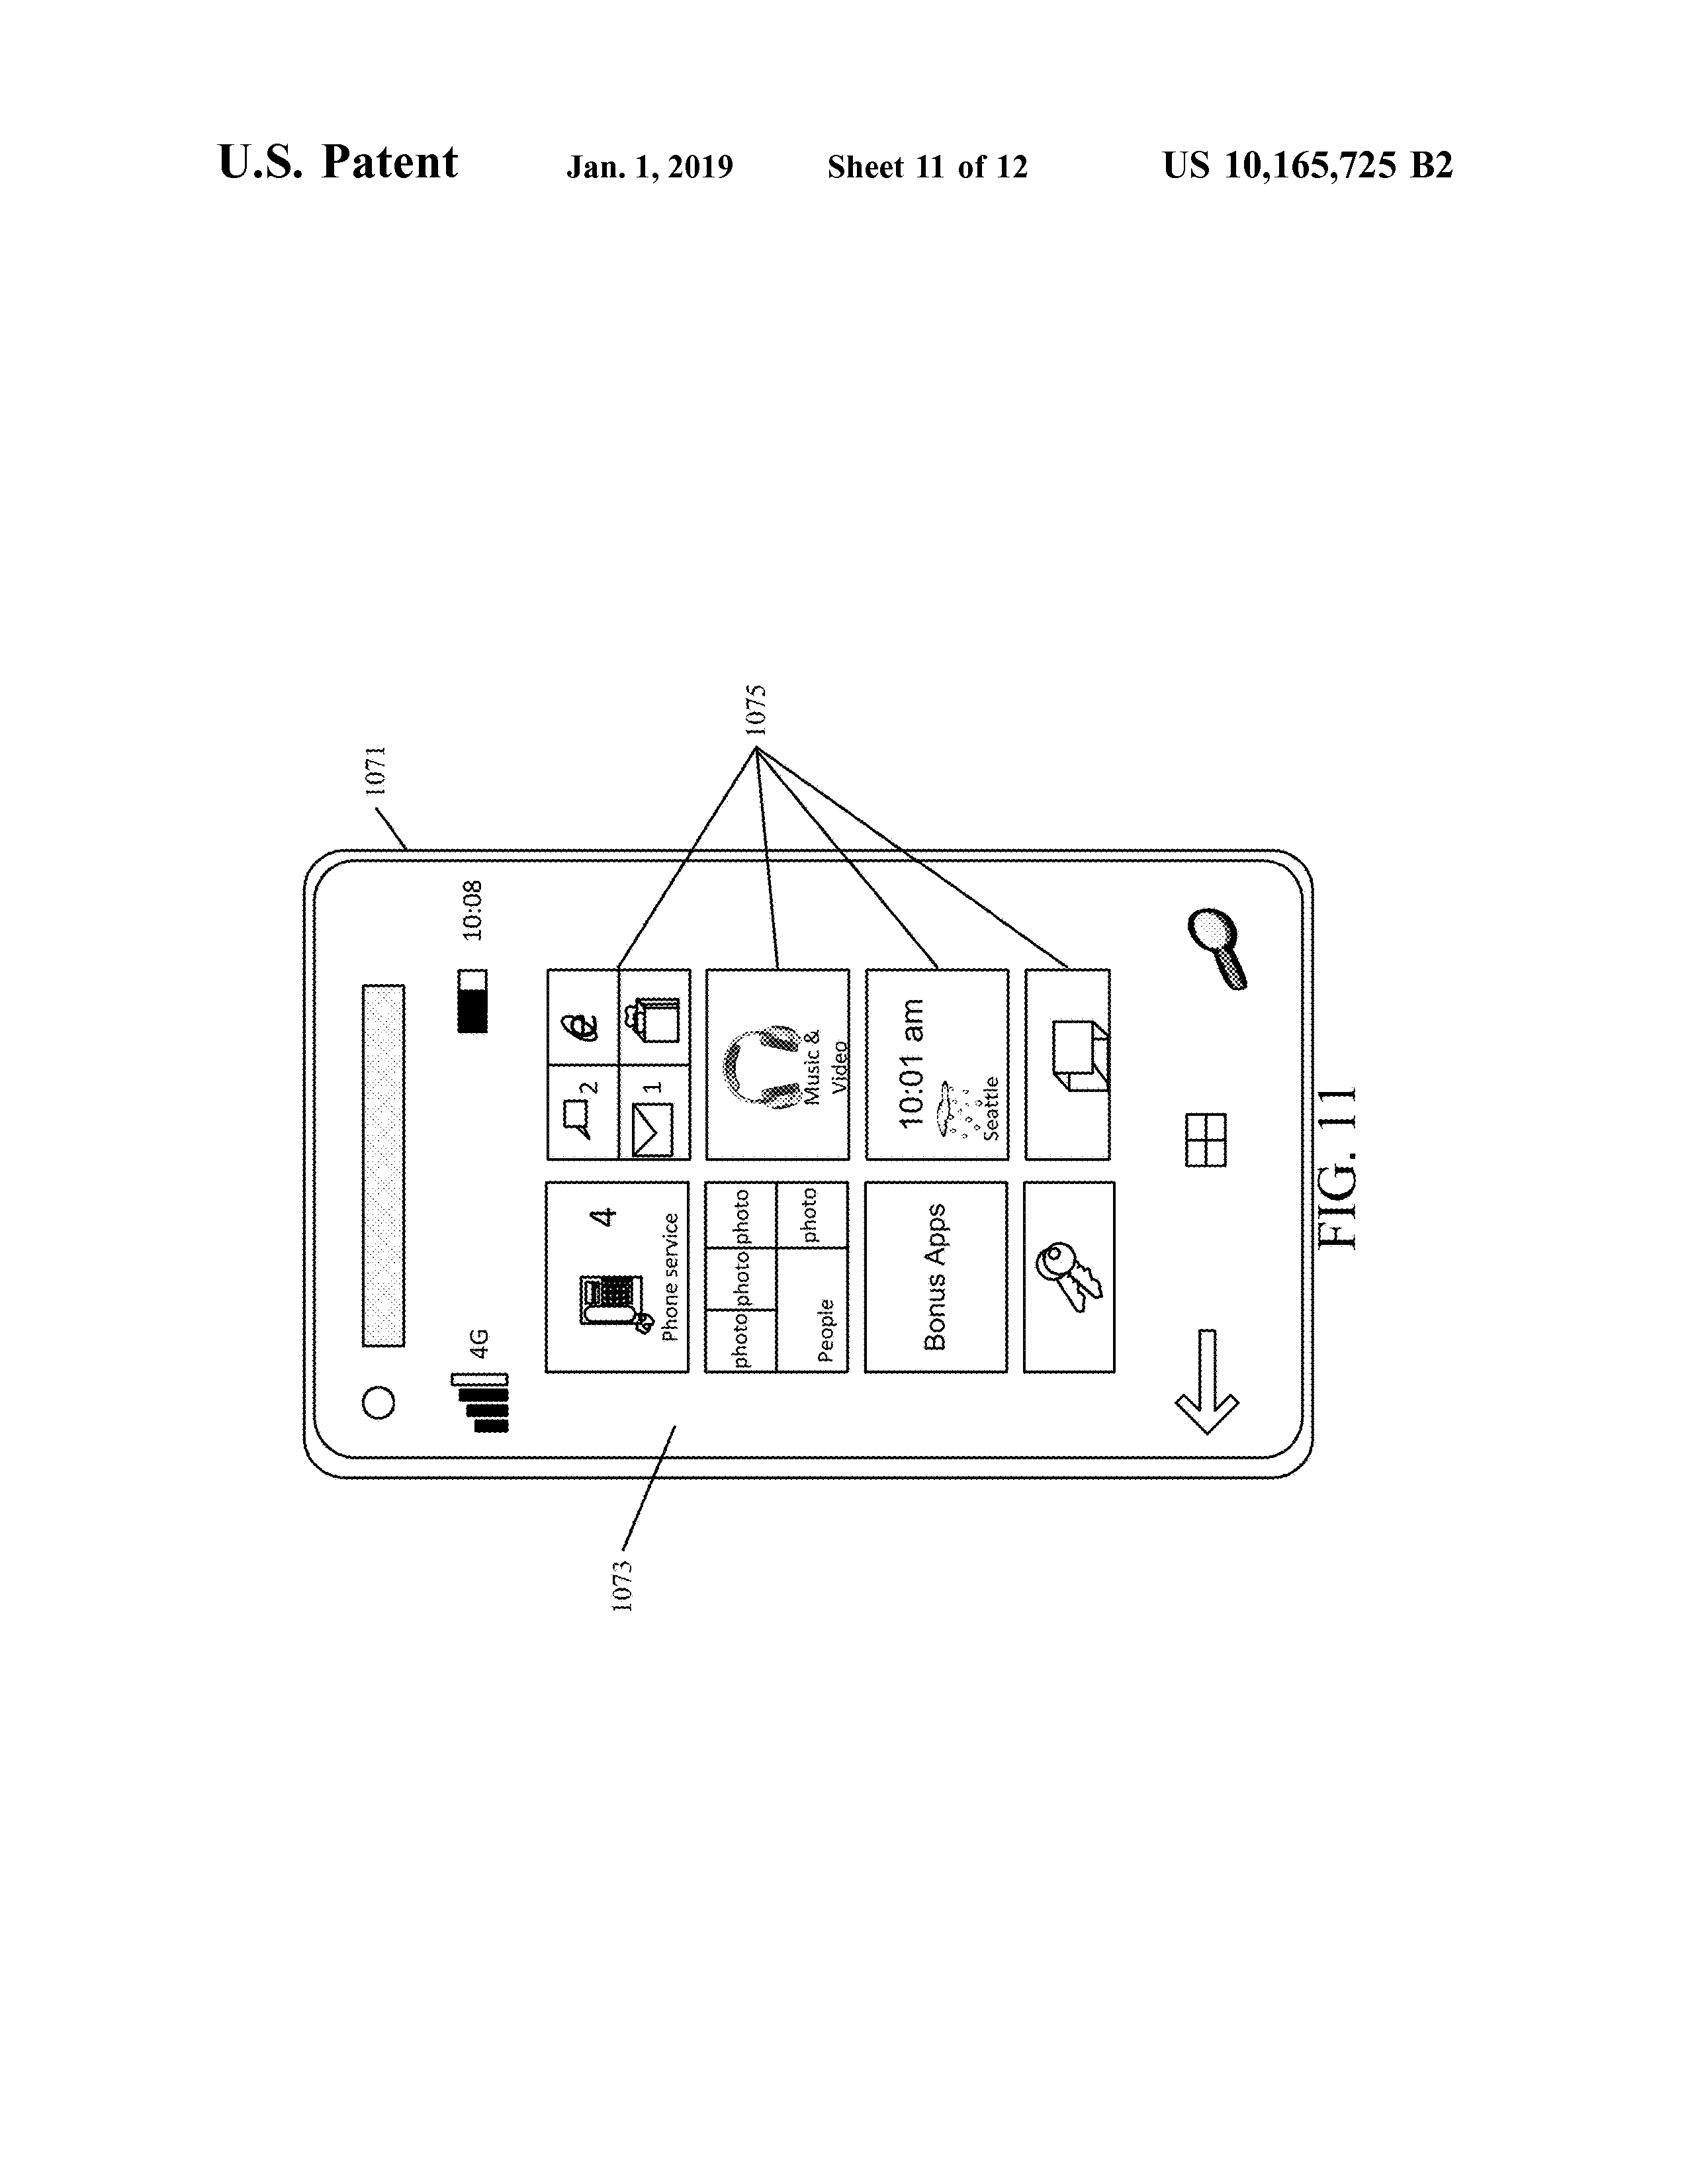patent image: (261, 647, 1378, 1625)
